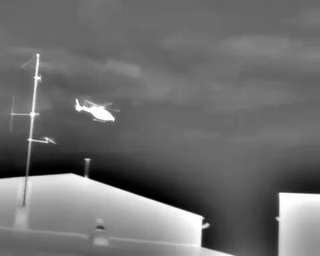HELICOPTER: (73, 92, 126, 130)
